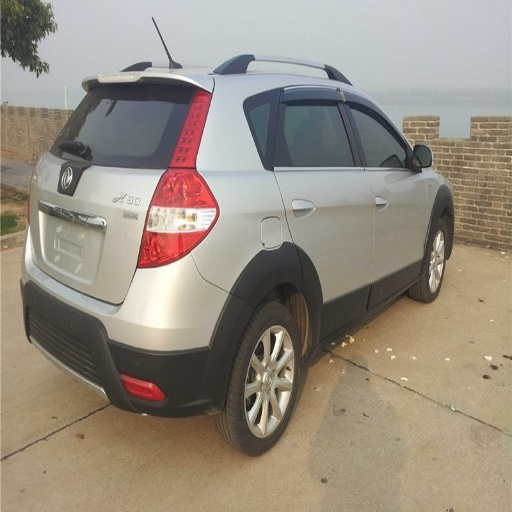back_bumper: (24, 237, 240, 411)
back_right_door: (273, 84, 371, 327)
